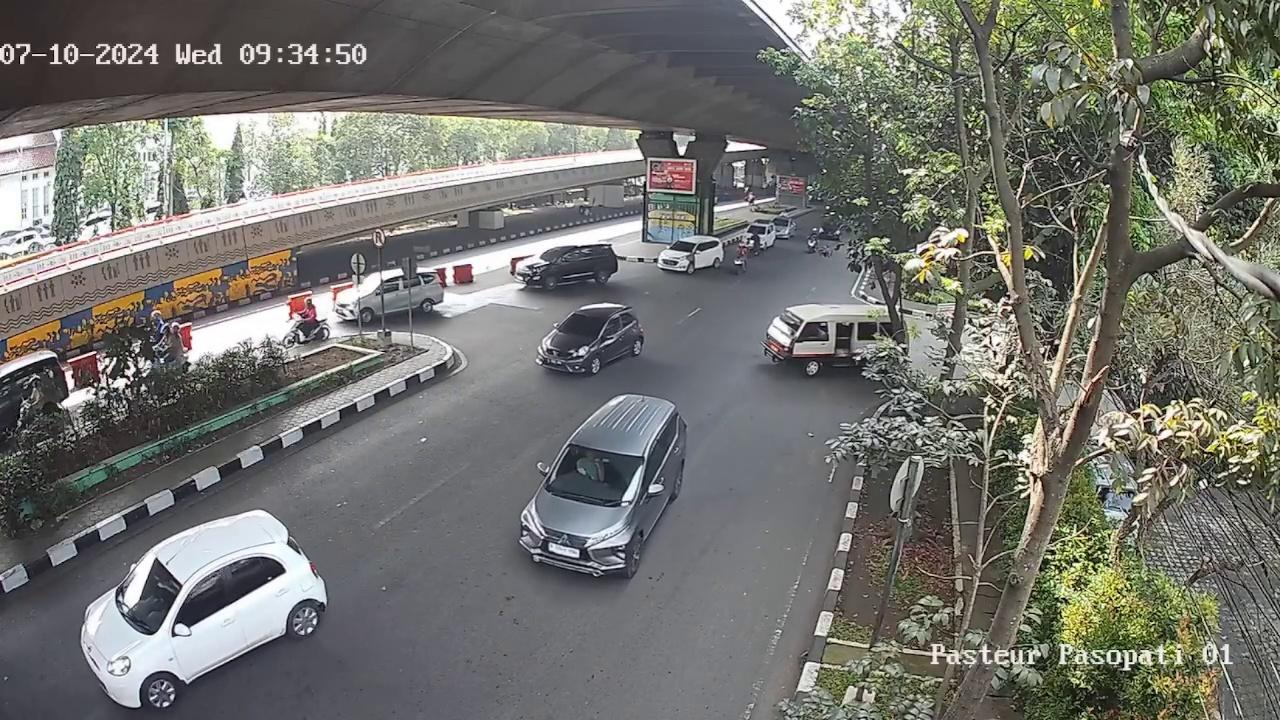tidak-pakai: (573, 452, 604, 486)
windshield: (546, 439, 645, 504), (119, 551, 184, 628), (556, 313, 605, 341)
